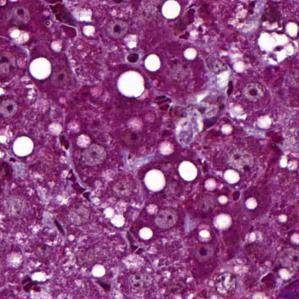ballooning: (253, 26, 299, 67)
